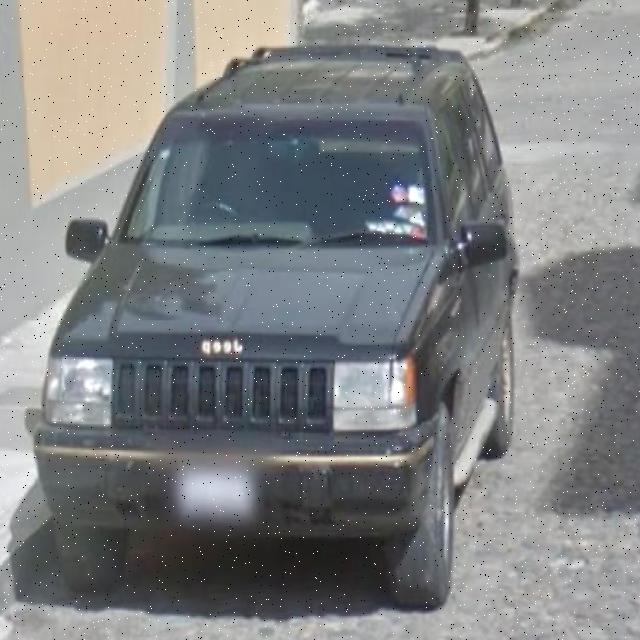car: (25, 36, 515, 626)
